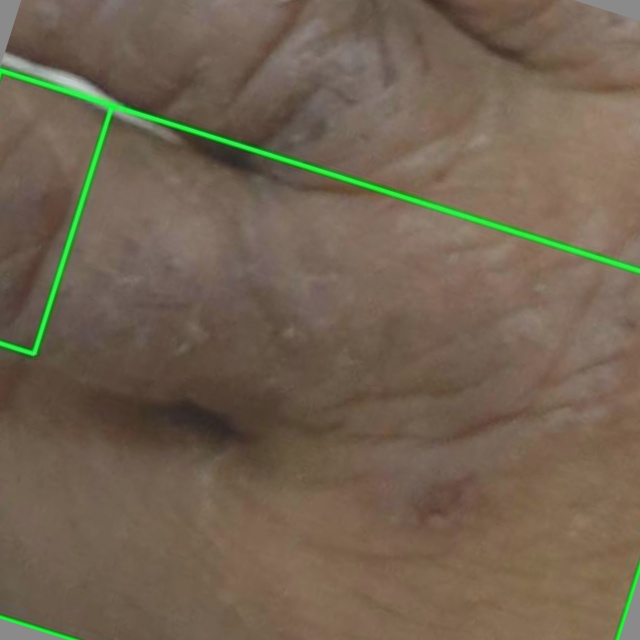Eczema: (0, 70, 639, 639), (0, 70, 112, 353)
